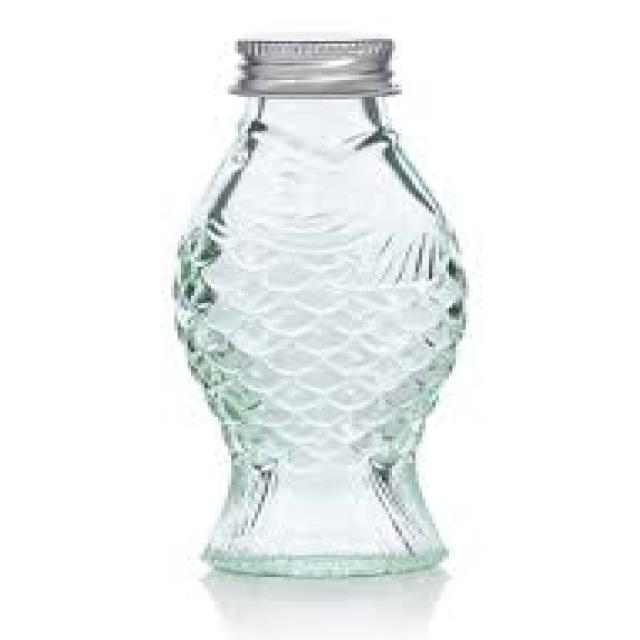bottle: (175, 39, 465, 576)
metal: (232, 39, 398, 96)
